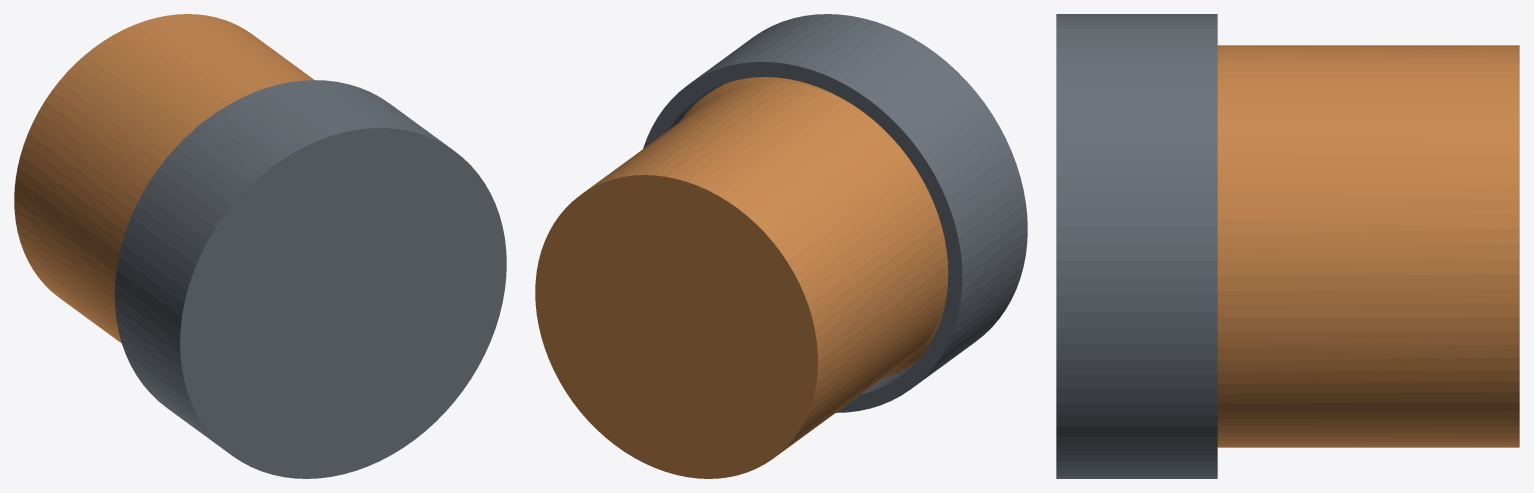
The picture shows the model from 3 angles, left to right: view 1: azimuth 30°, elevation 25°; view 2: azimuth 150°, elevation 25°; view 3: azimuth 270°, elevation 25°; orthographic projection. The views are drawn at different scales.
Visible parts, largest first — view 1: couvercle, pot; view 2: pot, couvercle; view 3: pot, couvercle.
Boxes of the visible parts, box(x1,y1,x2,y2) form: couvercle: box(114, 80, 506, 478); pot: box(14, 14, 313, 343); pot: box(535, 77, 948, 478); couvercle: box(643, 14, 1027, 412); pot: box(1217, 45, 1519, 447); couvercle: box(1056, 14, 1217, 478).
Size of the model in its own units: 46.2 by 46.2 by 46.
